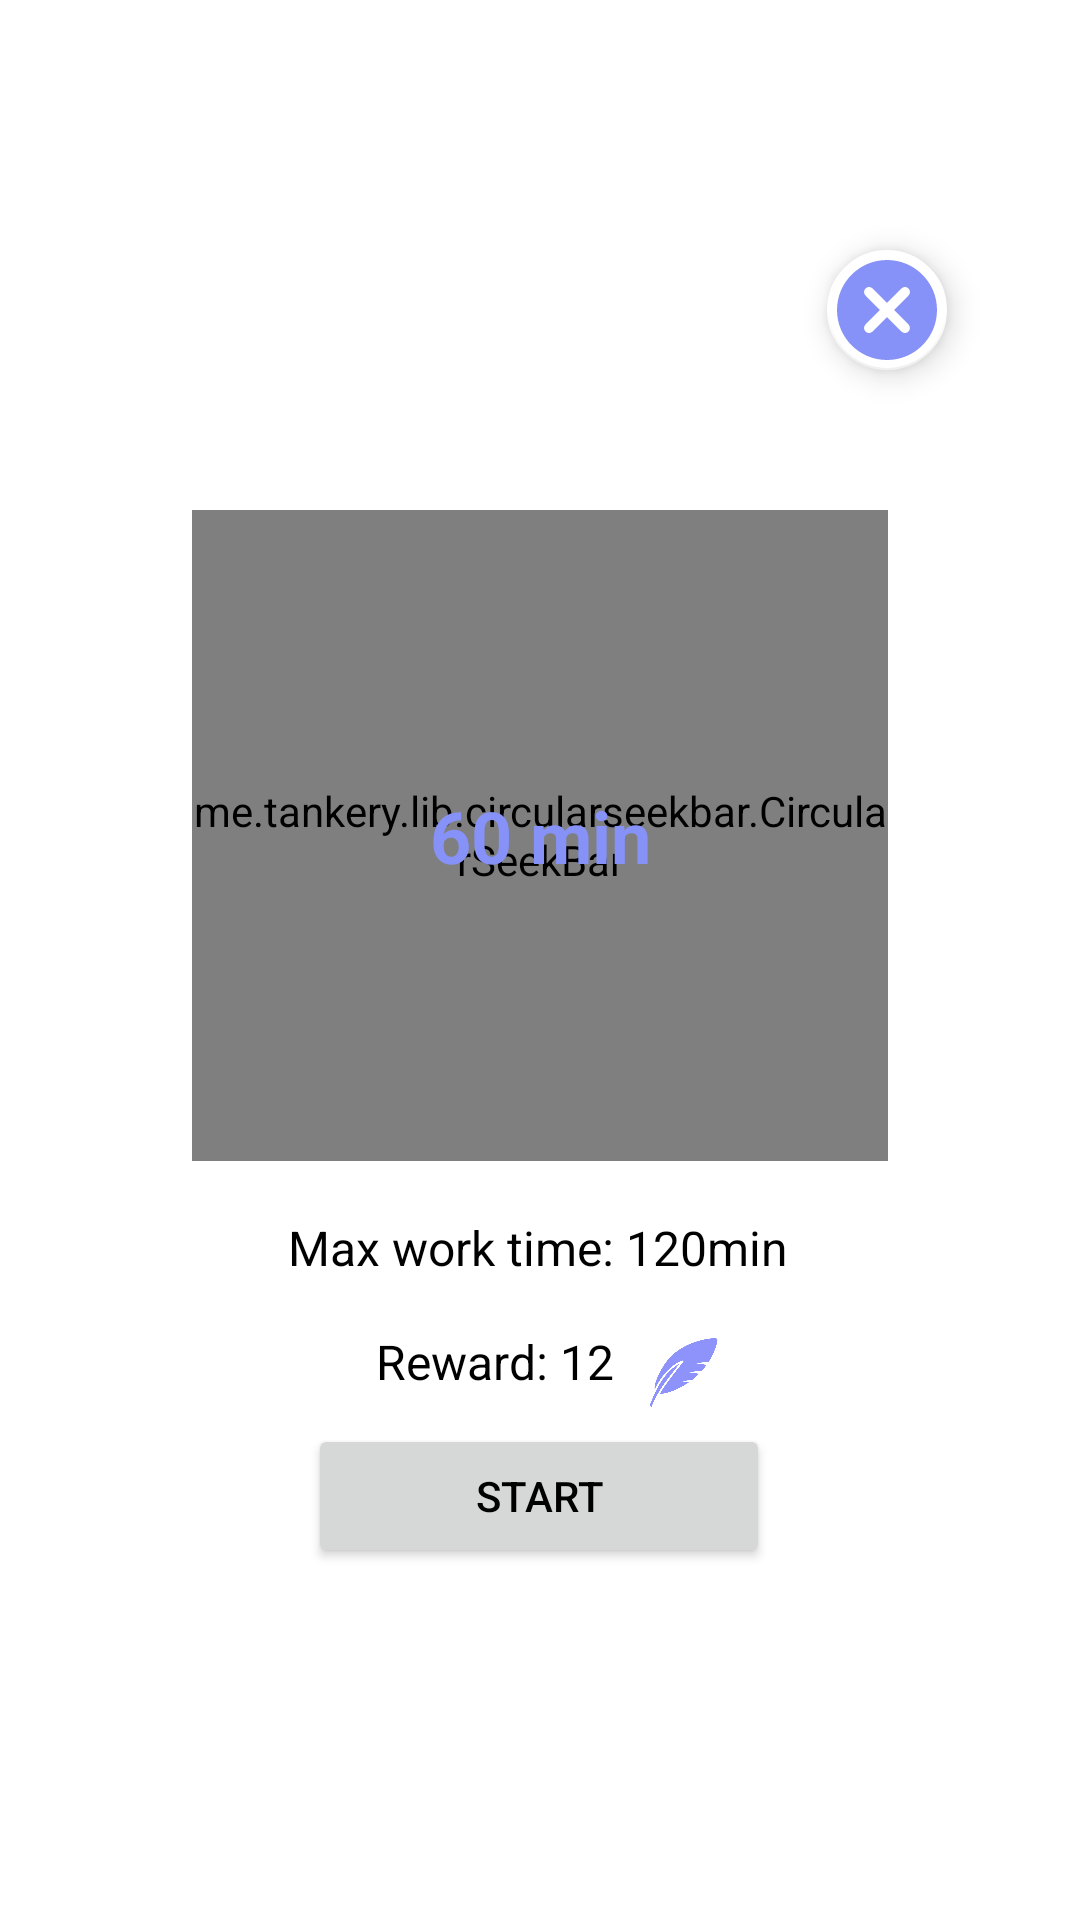

Icons on this 1080 × 1920 Android screen, each with the point to tap as [x,y]:
feather: [683,1372]
